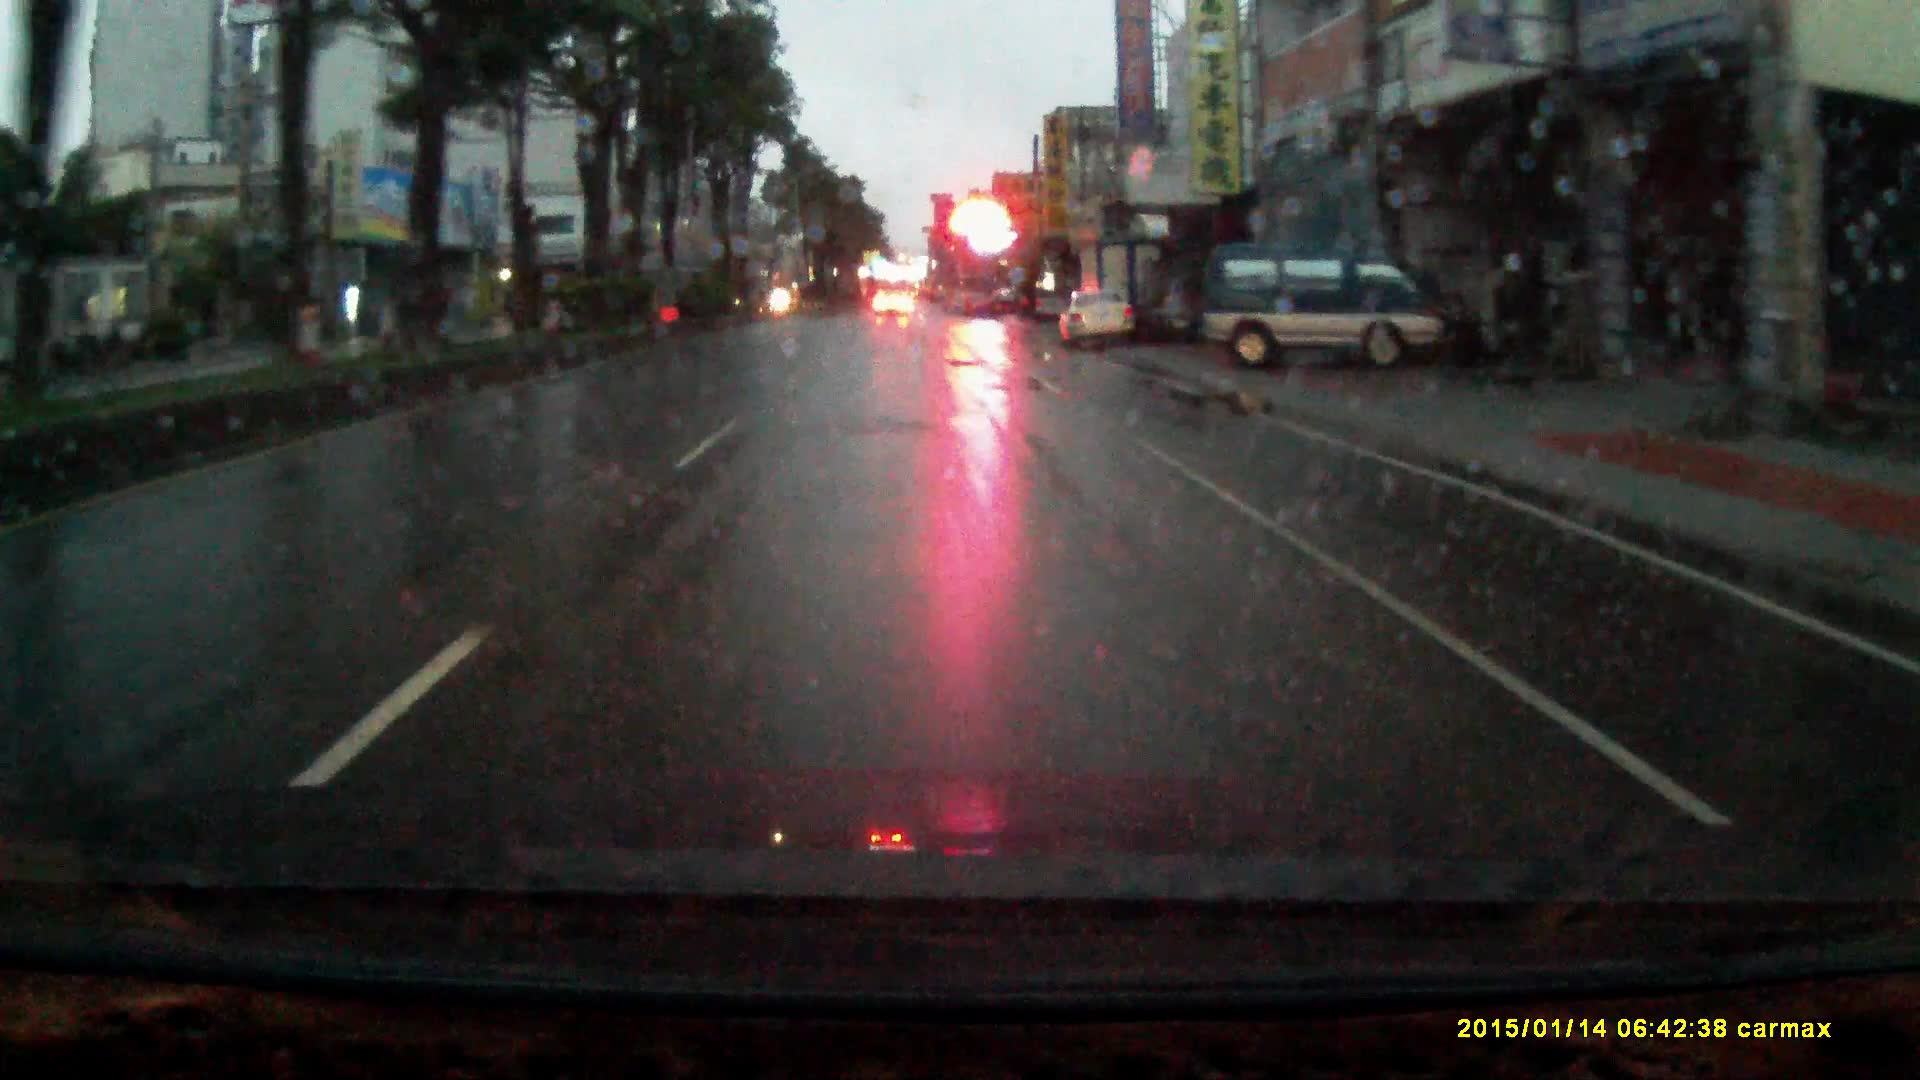vehicle: (1200, 243, 1466, 381), (1077, 244, 1168, 352), (1058, 289, 1138, 355), (876, 289, 913, 320)
